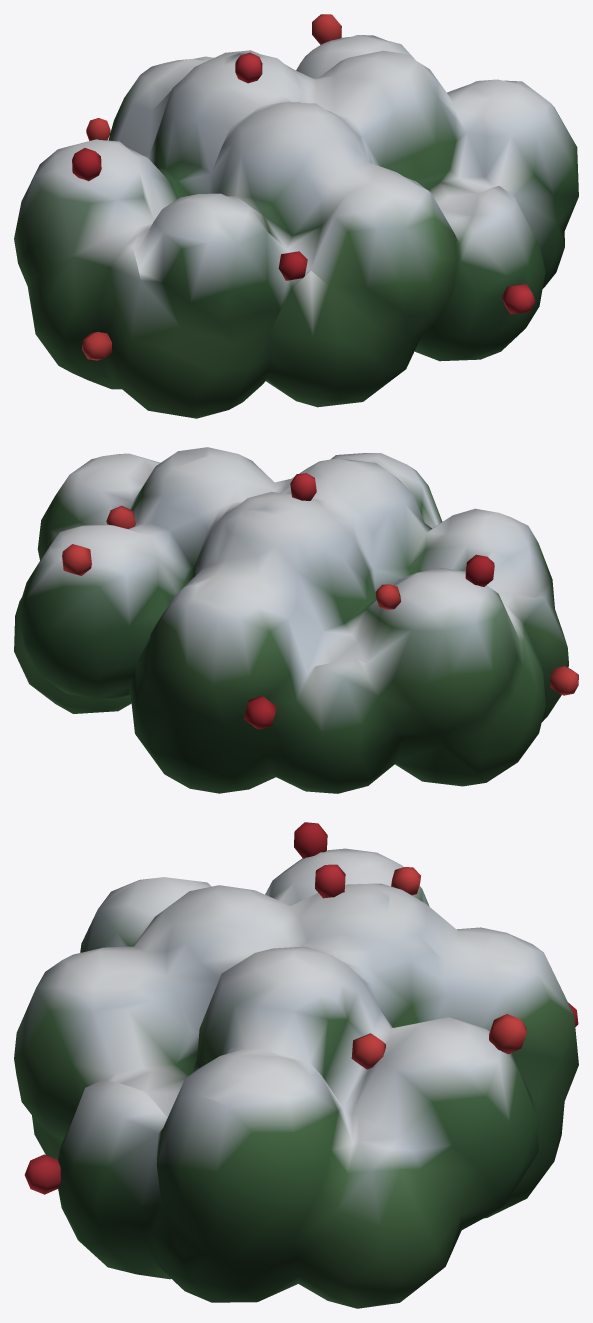
File: bush-b-winter.glb
3 views of the same model, one above another, from view 1: azimuth 30°, elevation 25°; view 2: azimuth 150°, elevation 25°; view 3: azimuth 270°, elevation 25° (orthographic). The views are drawn at different scales.
Parts seen in each view (by area): view 1: bush-b-winter; view 2: bush-b-winter; view 3: bush-b-winter.
Part boxes in pixels (x1,y1,x2,y2): bush-b-winter: (14,14,578,418); bush-b-winter: (14,447,578,793); bush-b-winter: (14,822,578,1308).
Size of the model in its own units: 1.34 by 0.7053 by 1.1.
